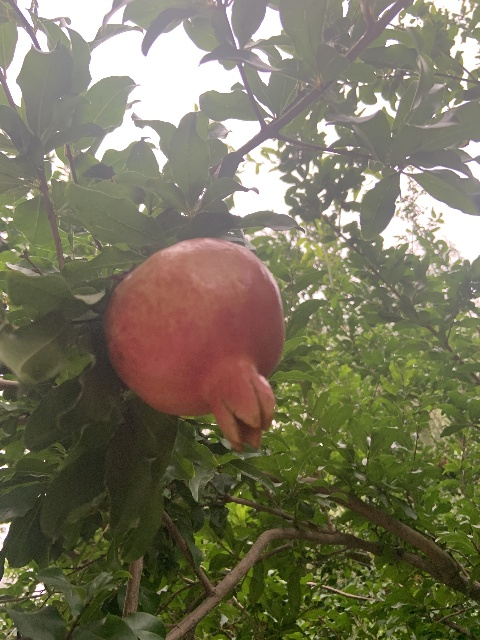ripe: (102, 237, 284, 452)
